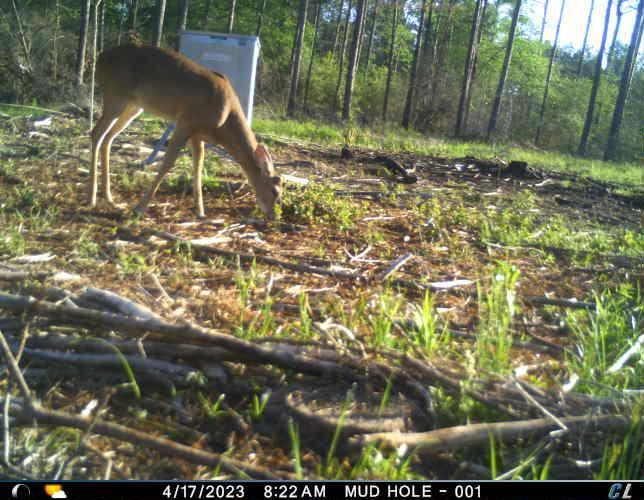Deer: (89, 42, 287, 226)
